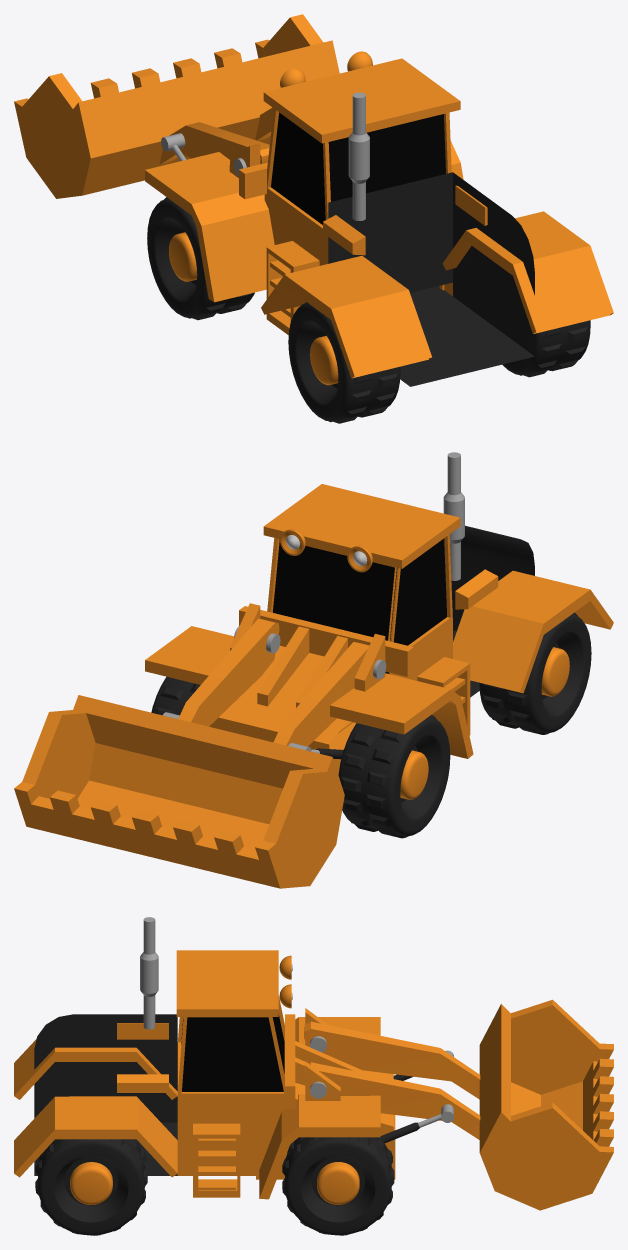
The model's file is mine machine.fbx.
3 views of the same model, one above another, from view 1: azimuth 30°, elevation 25°; view 2: azimuth 150°, elevation 25°; view 3: azimuth 270°, elevation 25° (orthographic). The views are drawn at different scales.
Visible parts, largest first — view 1: Cube.061; view 2: Cube.061; view 3: Cube.061.
Part boxes in pixels (x1,y1,x2,y2): Cube.061: (14,14,613,423); Cube.061: (14,452,613,888); Cube.061: (14,917,613,1235).
Bounding box in the file's own units: 55.92 × 58.39 × 128.
